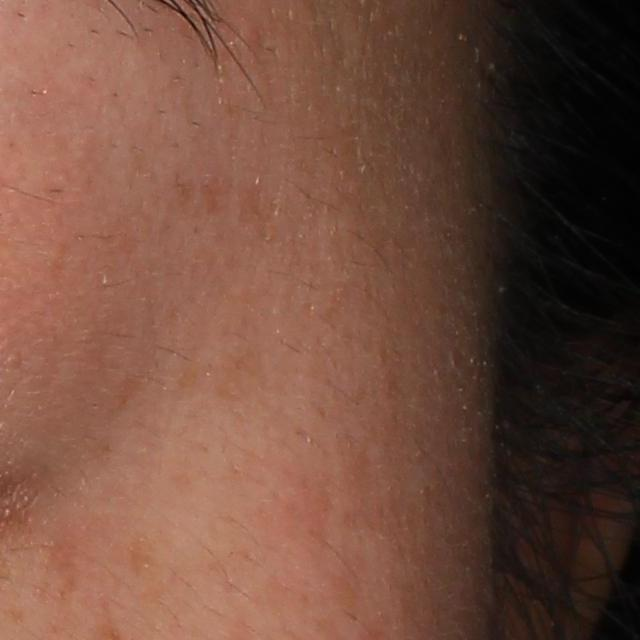melasma: (235, 176, 282, 248), (214, 342, 261, 403), (126, 531, 164, 583), (195, 171, 229, 223)
